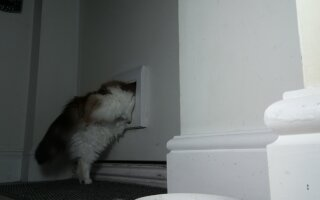clara: (35, 80, 136, 186)
